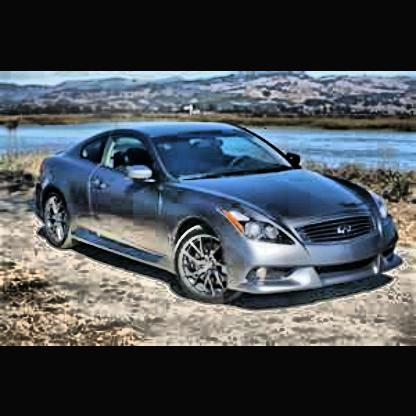Infiniti G Coupe IPL 2012: (35, 121, 405, 306)
